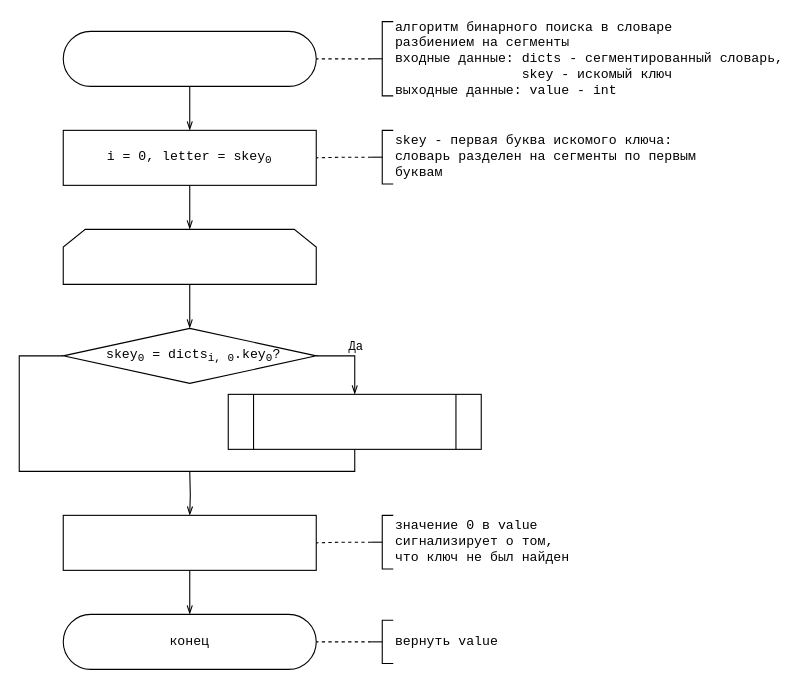
Image size: 811x689. Some labels were removed from this diagram. The centre of each missing label's shape, as x and y in pixels:
"value = 0" belongs at (x=189, y=542).
"value = результат бинарного поиска в dicts i" belongs at (x=354, y=421).
"начало" belongs at (x=189, y=58).
"цикл по i i < |dicts|" belongs at (x=189, y=256).
